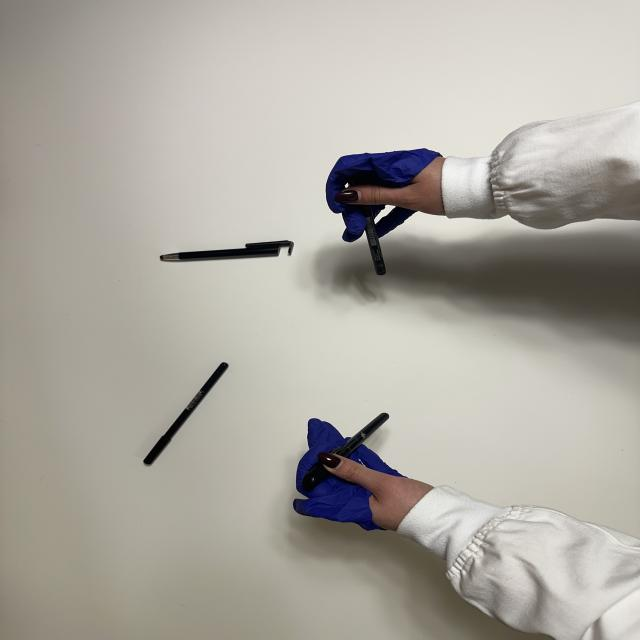glove_partial: (294, 417, 436, 534), (325, 145, 452, 243)
